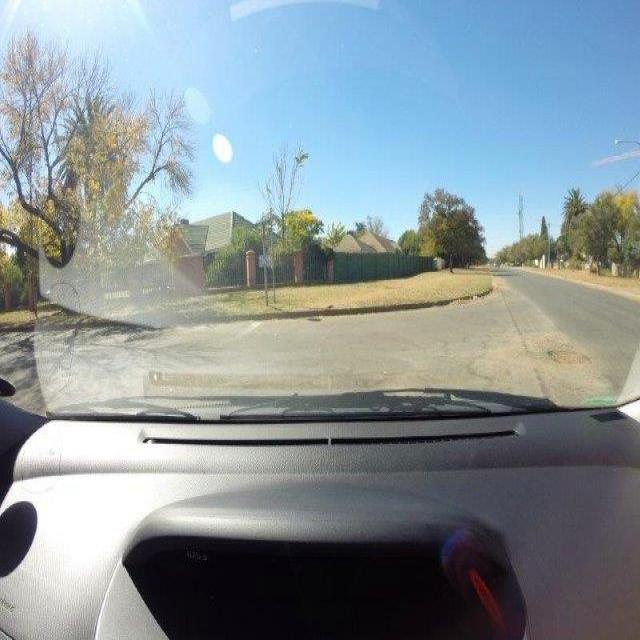lubang: (542, 340, 594, 372)
